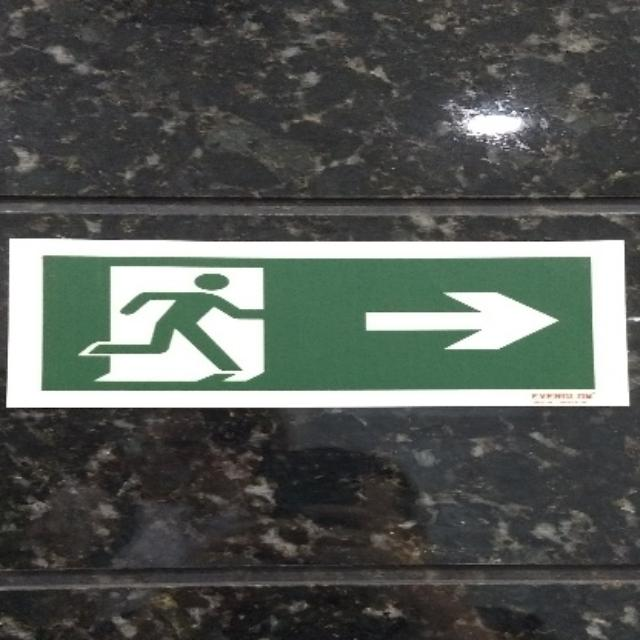exit: (6, 238, 626, 406)
